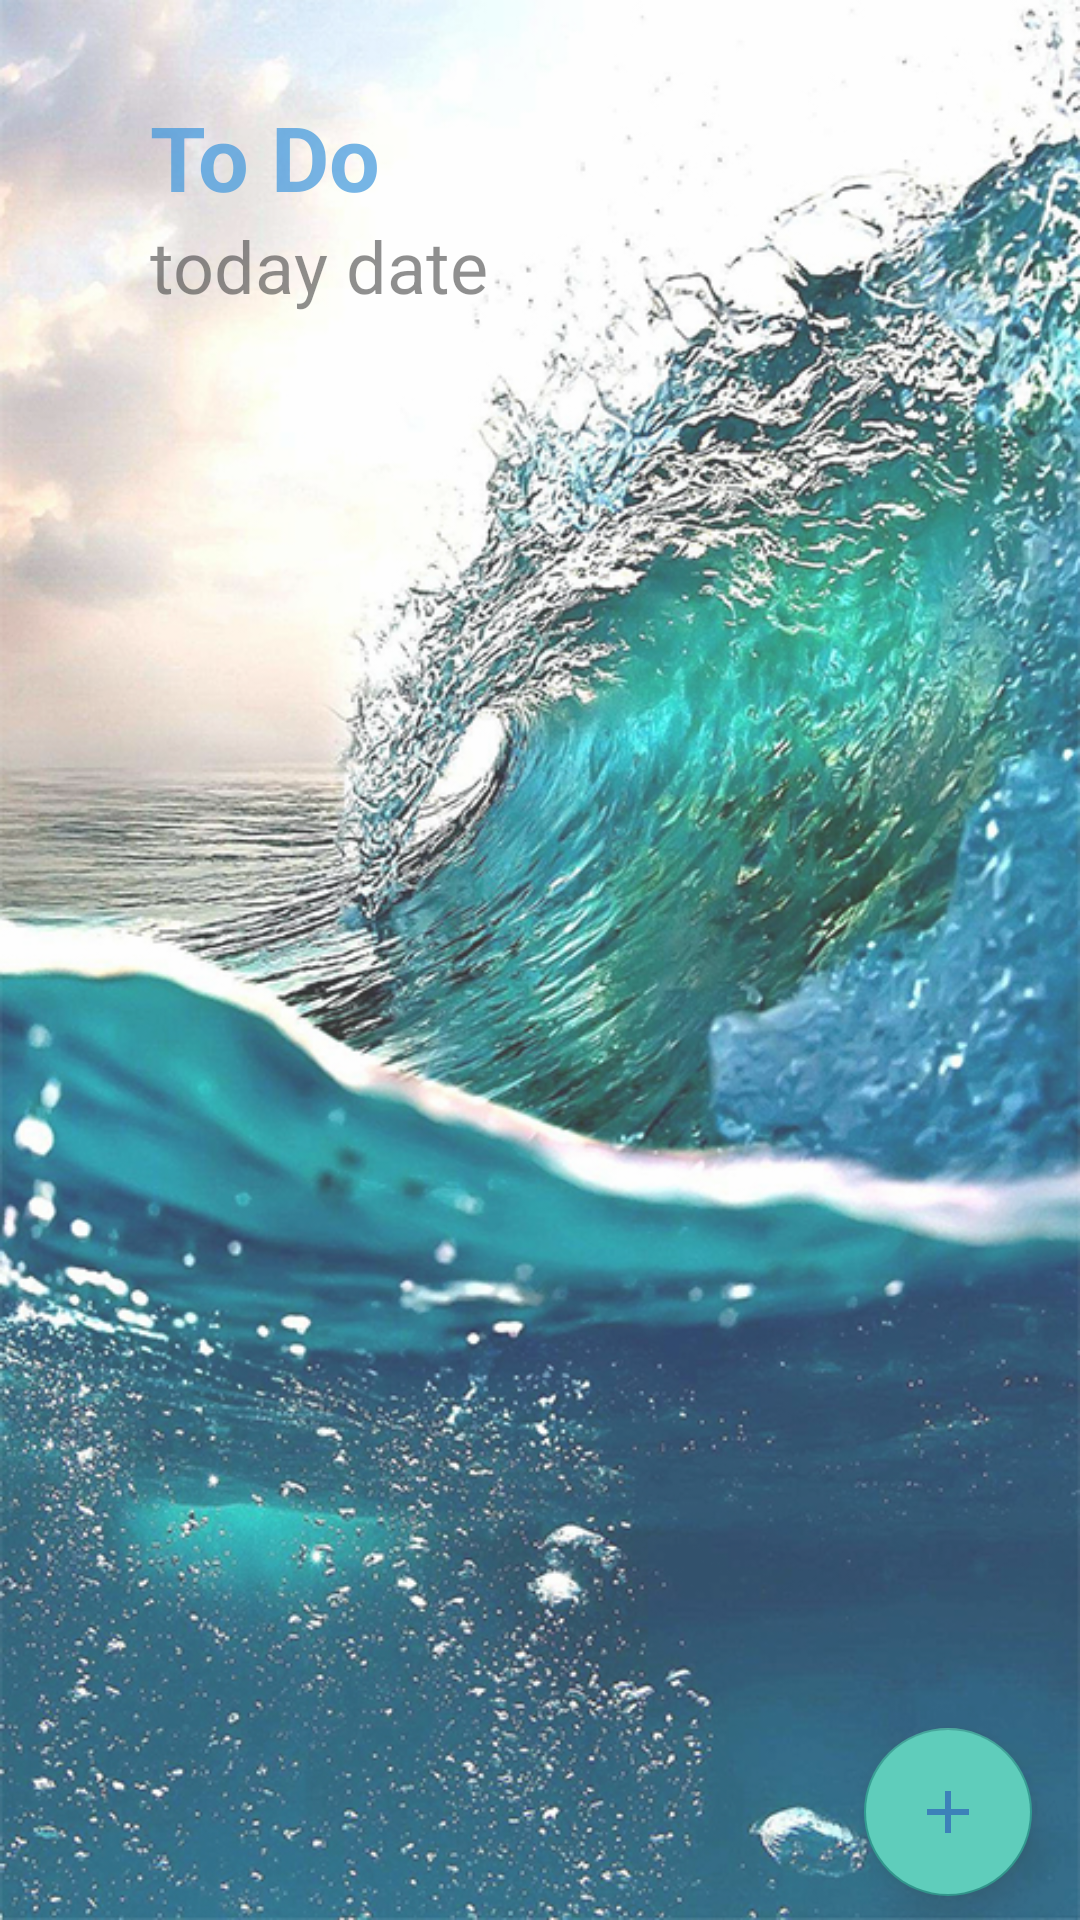

Named icons in this screenshot (1080w x 1920h) and their centers, [x,y]:
add: [948,1812]
